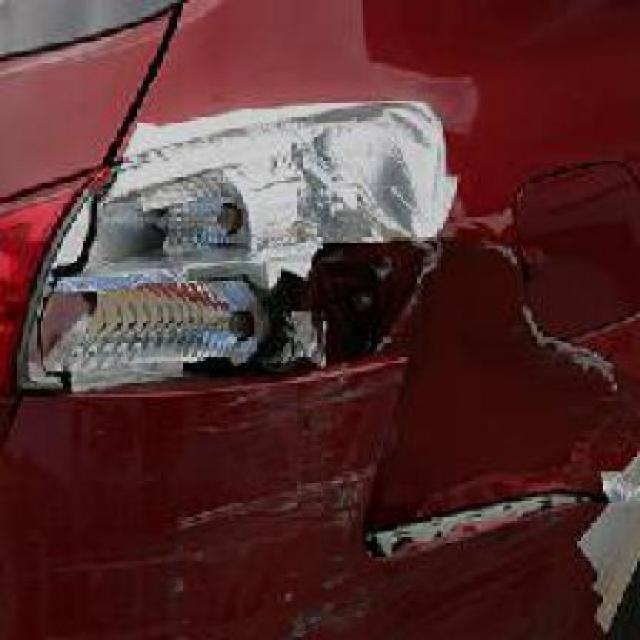damaged-tail-light: (0, 92, 451, 405)
